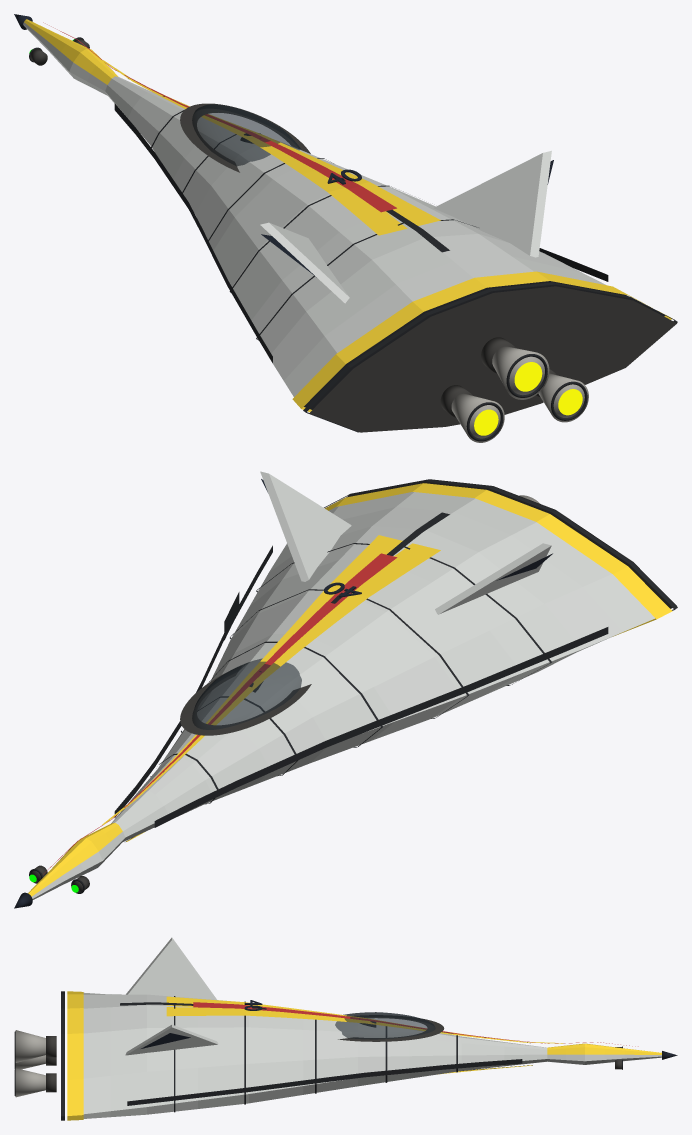
The model's file is Ship_PyramidLifter_327178.glb.
3 renders of one model, top to bottom at view 1: azimuth 30°, elevation 25°; view 2: azimuth 150°, elevation 25°; view 3: azimuth 270°, elevation 25°, orthographic. The views are drawn at different scales.
Parts seen in each view (by area): view 1: Fuselage_MainPyramidalLiftingBody, EngineDeck_AftFacetedDarkMountPlate, TailFin_Right_ShortCantedStabilizer, EngineDeck_AftOuterArmorCollar, PaintDorsalArrow_PrimaryBroadBlade, CanopyGlass_LowInsetSmokedDome, Nose_FacetedRamNeedle, CanopyFrame_LowInsetArmoredOvalRim, TailFin_Left_ShortCantedStabilizer, EngineEmitter, PaintDorsalArrow_SecondaryNeedleStripe, EngineDeck_AftDarkCompressionSeal (+4 smaller); view 2: Fuselage_MainPyramidalLiftingBody, PaintDorsalArrow_PrimaryBroadBlade, CanopyGlass_LowInsetSmokedDome, EngineDeck_AftOuterArmorCollar, TailFin_Right_ShortCantedStabilizer, SideChinePanel_Left_LongDarkArmorJoint, Nose_FacetedRamNeedle, PaintDorsalArrow_SecondaryNeedleStripe, CanopyFrame_LowInsetArmoredOvalRim, TailFin_Left_ShortCantedStabilizer, EngineDeck_AftDarkCompressionSeal, EngineDeck_AftFacetedDarkMountPlate (+1 smaller); view 3: Fuselage_MainPyramidalLiftingBody, TailFin_Left_ShortCantedStabilizer, PaintDorsalArrow_PrimaryBroadBlade, EngineDeck_AftOuterArmorCollar, CanopyGlass_LowInsetSmokedDome, SideChinePanel_Right_LongDarkArmorJoint, Nose_FacetedRamNeedle, TailFin_Right_ShortCantedStabilizer, PaintDorsalArrow_SecondaryNeedleStripe, CanopyFrame_LowInsetArmoredOvalRim, EngineBell_CenterUpper_BurnishedNozzle, EngineBell_RightLower_BurnishedNozzle (+1 smaller).
Boxes of the visible parts, box(x1,y1,x2,y2) form: Fuselage_MainPyramidalLiftingBody: box(105, 76, 664, 409); EngineDeck_AftFacetedDarkMountPlate: box(309, 286, 676, 432); TailFin_Right_ShortCantedStabilizer: box(433, 150, 551, 257); EngineDeck_AftOuterArmorCollar: box(292, 271, 671, 412); PaintDorsalArrow_PrimaryBroadBlade: box(102, 60, 440, 235); CanopyGlass_LowInsetSmokedDome: box(192, 104, 301, 166); Nose_FacetedRamNeedle: box(23, 19, 118, 95); CanopyFrame_LowInsetArmoredOvalRim: box(180, 103, 310, 172); TailFin_Left_ShortCantedStabilizer: box(260, 222, 349, 303); EngineEmitter: box(474, 362, 582, 435); PaintDorsalArrow_SecondaryNeedleStripe: box(43, 22, 396, 212); EngineDeck_AftDarkCompressionSeal: box(303, 282, 677, 432); Fuselage_MainPyramidalLiftingBody: box(111, 492, 655, 841); PaintDorsalArrow_PrimaryBroadBlade: box(102, 535, 440, 824); CanopyGlass_LowInsetSmokedDome: box(192, 658, 301, 729); EngineDeck_AftOuterArmorCollar: box(325, 483, 672, 636); TailFin_Right_ShortCantedStabilizer: box(260, 471, 351, 581); SideChinePanel_Left_LongDarkArmorJoint: box(154, 627, 608, 827); Nose_FacetedRamNeedle: box(28, 823, 125, 899); PaintDorsalArrow_SecondaryNeedleStripe: box(43, 553, 397, 874); CanopyFrame_LowInsetArmoredOvalRim: box(180, 666, 311, 735); TailFin_Left_ShortCantedStabilizer: box(435, 543, 551, 614); EngineDeck_AftDarkCompressionSeal: box(324, 479, 677, 610); EngineDeck_AftFacetedDarkMountPlate: box(330, 479, 676, 608); Fuselage_MainPyramidalLiftingBody: box(83, 992, 547, 1118); TailFin_Left_ShortCantedStabilizer: box(126, 937, 216, 999); PaintDorsalArrow_PrimaryBroadBlade: box(166, 996, 563, 1043); EngineDeck_AftOuterArmorCollar: box(67, 991, 83, 1120); CanopyGlass_LowInsetSmokedDome: box(335, 1012, 435, 1039); SideChinePanel_Right_LongDarkArmorJoint: box(127, 1059, 522, 1105); Nose_FacetedRamNeedle: box(547, 1043, 661, 1064); TailFin_Right_ShortCantedStabilizer: box(125, 1024, 218, 1055); PaintDorsalArrow_SecondaryNeedleStripe: box(193, 1002, 638, 1046); CanopyFrame_LowInsetArmoredOvalRim: box(338, 1015, 444, 1041); EngineBell_CenterUpper_BurnishedNozzle: box(15, 1030, 45, 1062); EngineBell_RightLower_BurnishedNozzle: box(15, 1068, 45, 1097).
Bounding box in the file's own units: 2.93 × 1.31 × 7.01.
